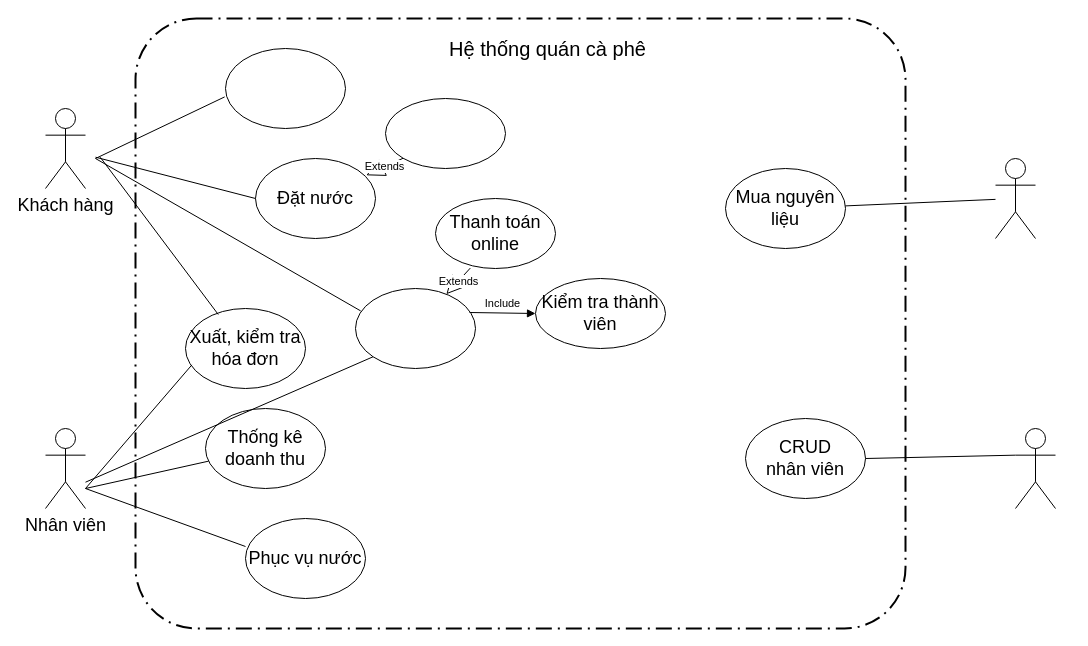
Some shapes in this 1088 by 646 pixel diagram are drawn without their labels. The box of each missing label's shape, as (x1, y1, x2, y2) in pixels:
Nhà cung cấp: (994, 158, 1036, 238)
Quản lý: (1014, 428, 1056, 508)
Thanh toán: (354, 288, 476, 368)
Xem menu: (224, 48, 346, 128)
Đặt nước online: (384, 98, 506, 168)
